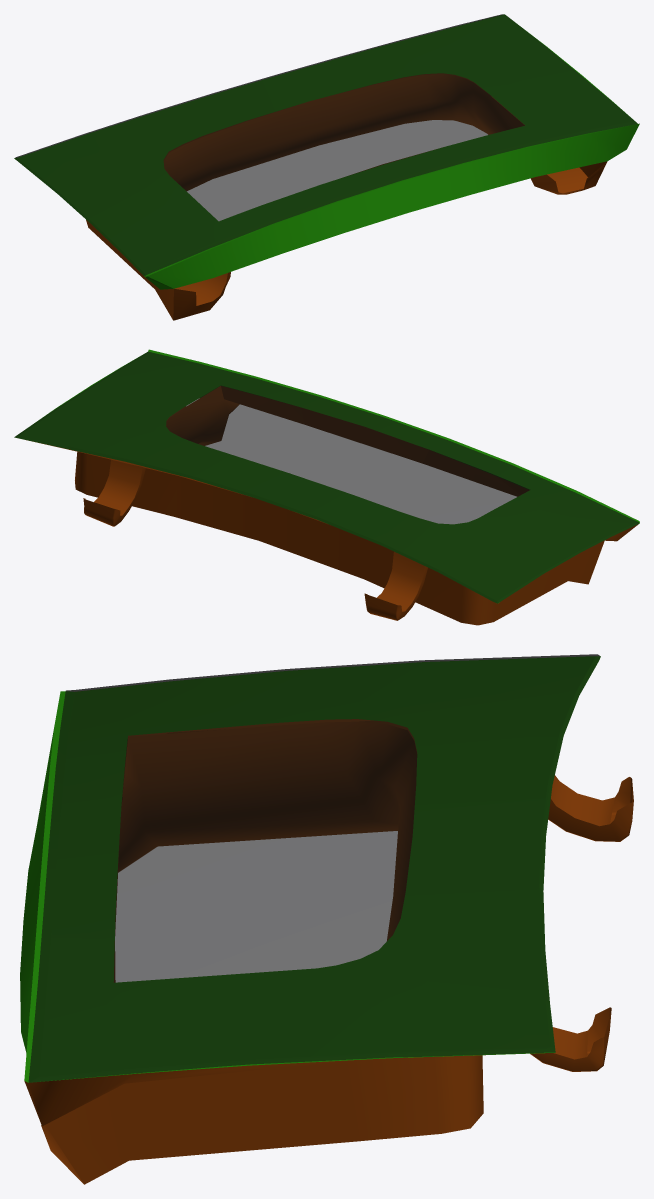
The model's file is Door_Top_RR.obj.
The picture shows the model from 3 angles, top to bottom: view 1: azimuth 30°, elevation 25°; view 2: azimuth 150°, elevation 25°; view 3: azimuth 270°, elevation 25°; orthographic projection. The views are drawn at different scales.
Parts seen in each view (by area): view 1: Door_Top_RR; view 2: Door_Top_RR; view 3: Door_Top_RR.
Part boxes in pixels (x1=…): Door_Top_RR: x1=14, y1=14, x2=639, y2=320; Door_Top_RR: x1=14, y1=349, x2=639, y2=625; Door_Top_RR: x1=20, y1=654, x2=633, y2=1184.
Size of the model in its own units: 1.11 by 0.2595 by 0.6066.
